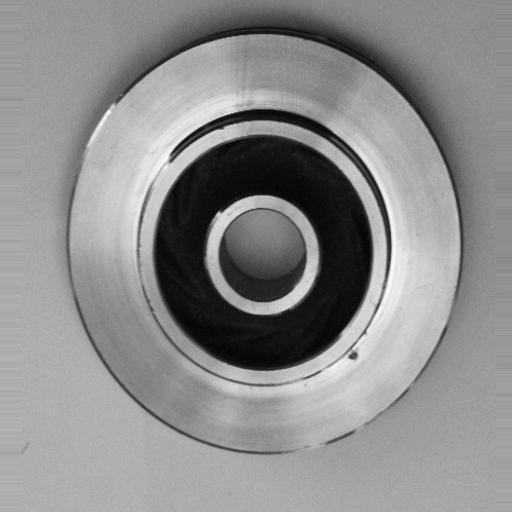crack: (340, 340, 368, 370)
unpolished_casting: (65, 29, 465, 460)
